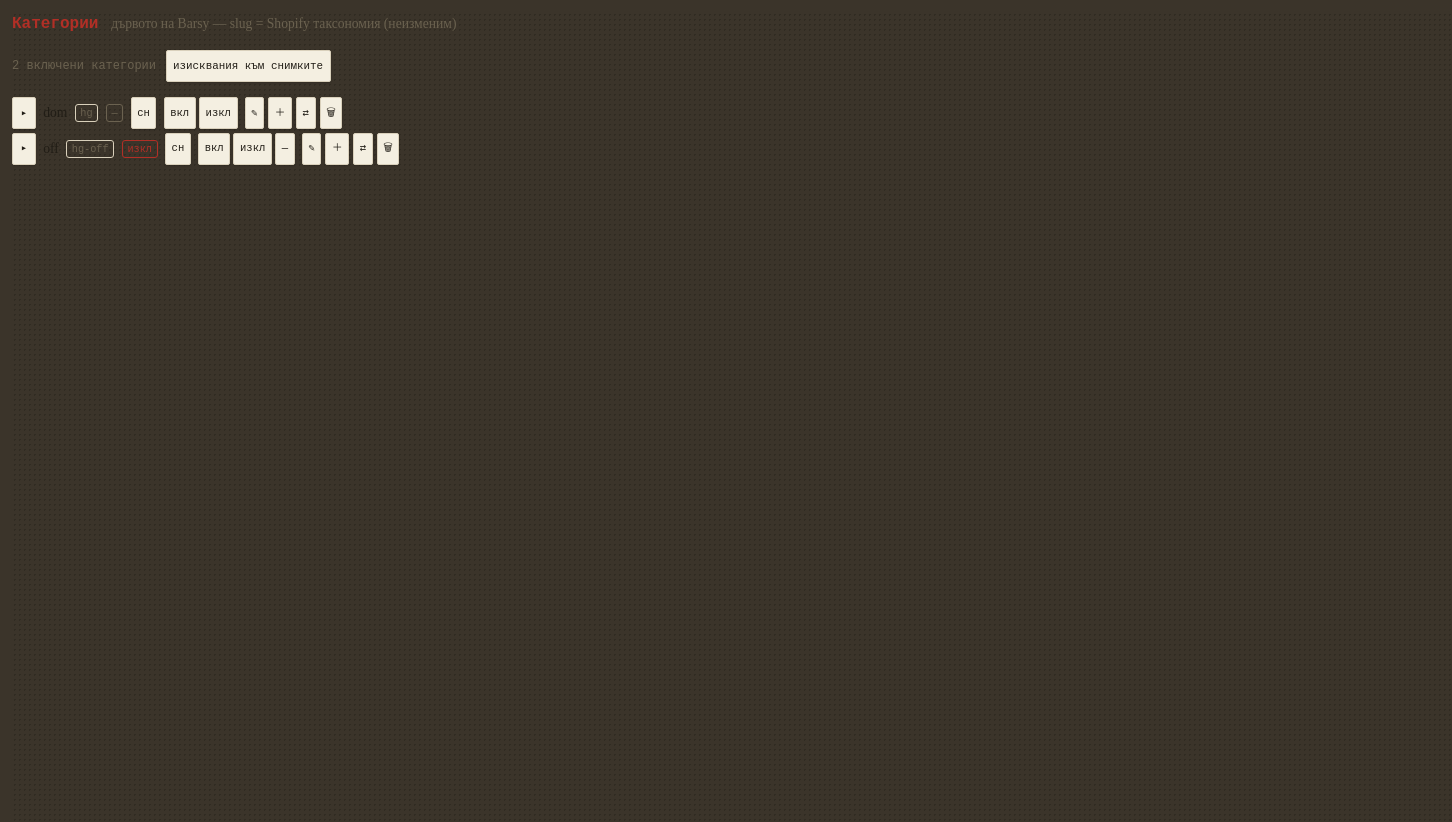
Scenario: видимост на категориите › says WHY a category that was switched on is still not live
Expected: the text "off" is shown, [43,138,59,160]
Click the button named "разгъни" at (24, 149), box [12,133,36,165]
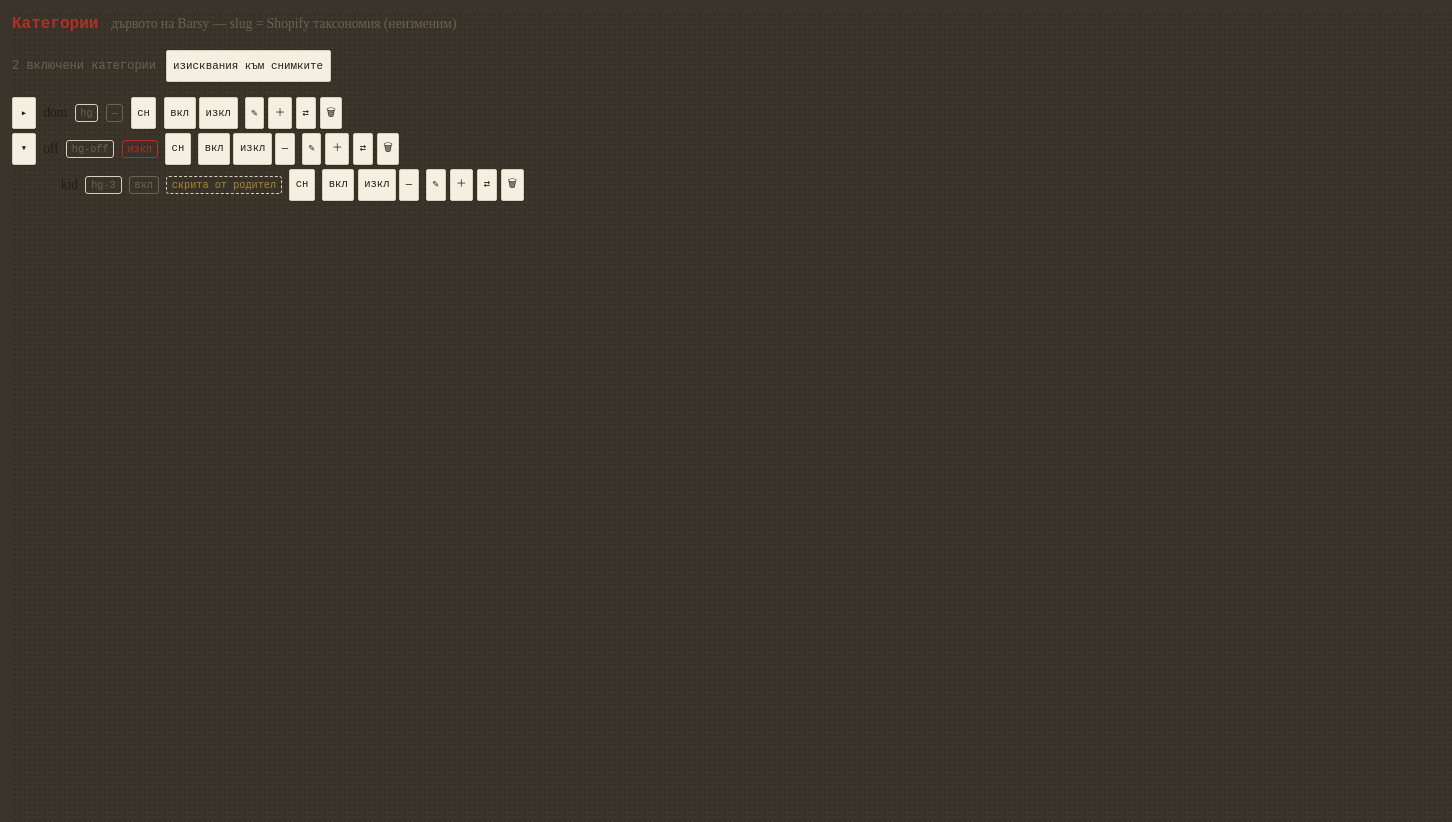
Result: the text "kid" is shown at [61,174,78,196]
Result: the text "вкл" is shown at [129,176,159,194]
Result: the text "скрита от родител" is shown at [166,176,282,194]
